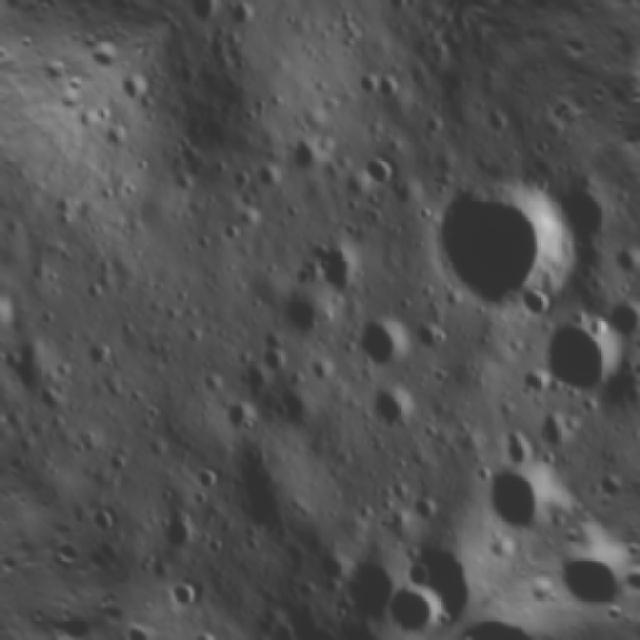crater: (404, 135, 616, 348), (520, 303, 635, 419), (466, 445, 566, 546), (364, 546, 468, 640), (300, 220, 378, 297), (270, 274, 347, 352), (347, 306, 416, 374), (348, 53, 410, 115), (246, 327, 305, 385), (360, 380, 418, 437), (217, 388, 274, 446), (352, 146, 406, 200), (79, 490, 132, 542), (595, 287, 640, 347), (162, 566, 210, 616), (181, 452, 228, 500), (0, 278, 26, 345), (219, 0, 266, 28), (182, 617, 230, 640)
